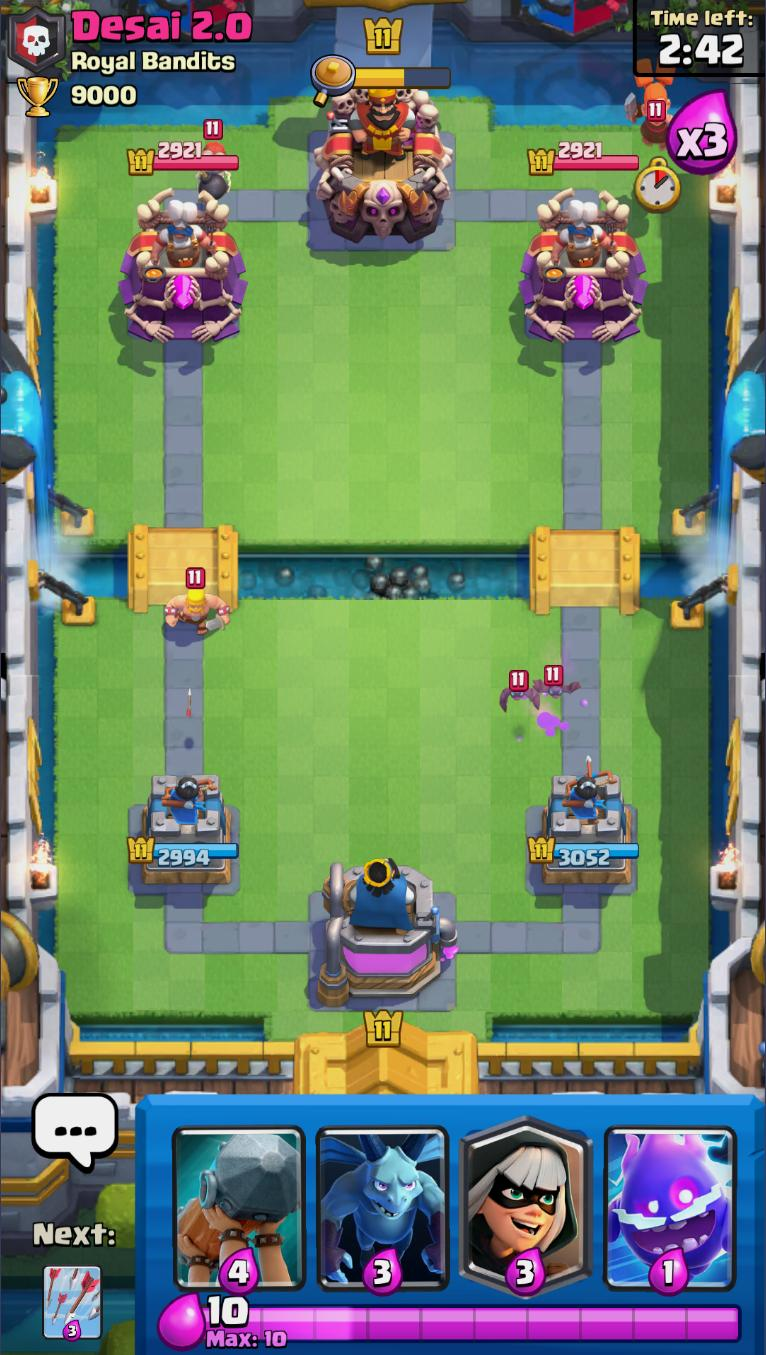ArrowNext: (42, 1263, 104, 1343)
BanditDeck: (450, 1097, 599, 1295)
Barbarian: (163, 567, 234, 635)
Bat: (530, 666, 586, 706), (499, 671, 539, 712)
BattleRamDeck: (173, 1098, 310, 1290)
Berserker: (625, 55, 678, 153)
Bomber: (188, 120, 241, 201)
Chef: (149, 199, 217, 273), (553, 197, 617, 274)
ElectroSpiritDeck: (599, 1097, 744, 1294)
Elixir: (202, 1296, 742, 1349)
EnemyTower: (118, 187, 248, 346), (520, 188, 648, 345)
KingTower: (309, 78, 456, 245)
MinionsDeck: (312, 1097, 453, 1296)
MyKingTower: (316, 858, 458, 1009)
MyPrincessTower: (128, 770, 241, 894), (528, 775, 640, 894)
MyPrincessTowerHP: (126, 835, 240, 869), (527, 835, 641, 869)
TowerPrincessHP: (526, 139, 641, 178), (125, 140, 240, 176)
